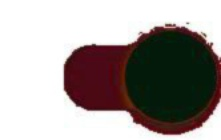Switch: (1, 1, 220, 139)
